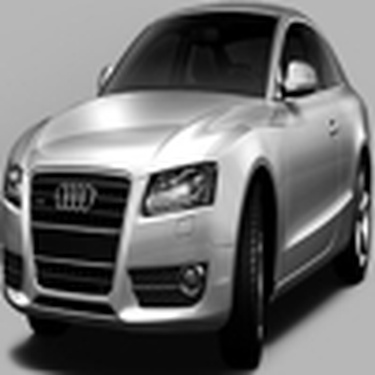car: (8, 2, 373, 361)
